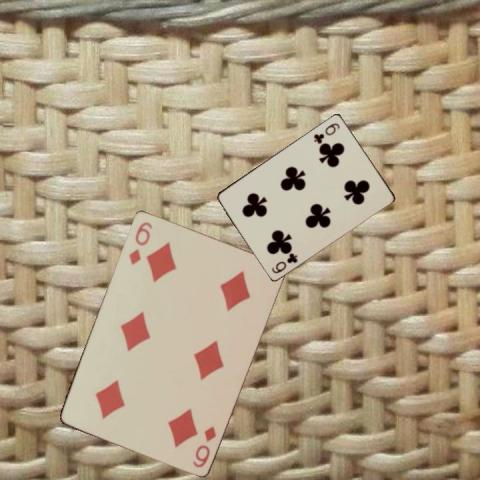6c: (311, 119, 341, 145), (269, 250, 299, 275)
6d: (125, 218, 154, 266), (190, 422, 218, 468)
